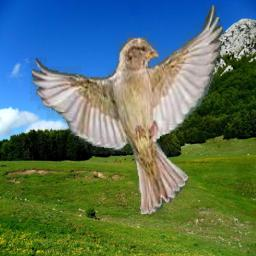Sparrow: (30, 4, 223, 214)
